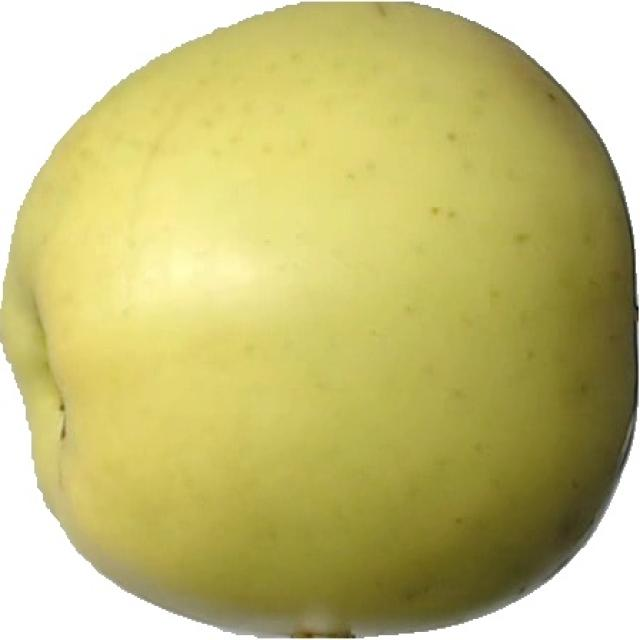Golden Elma: (6, 7, 640, 640)
